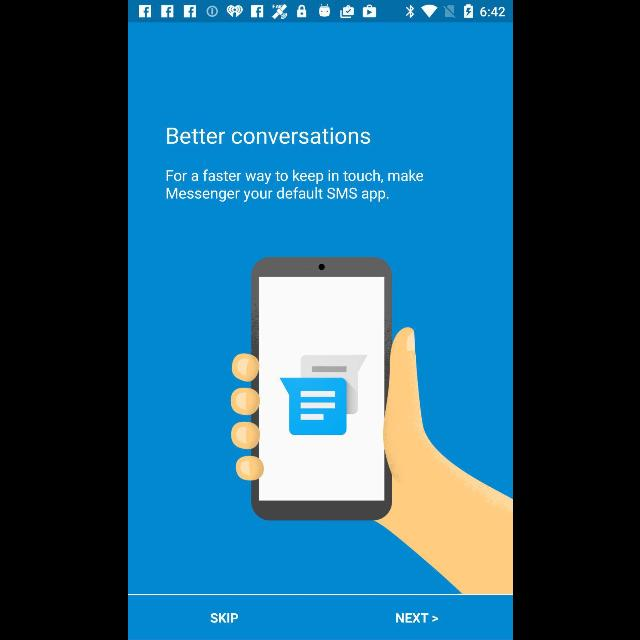image: (230, 256, 512, 594)
text: (165, 169, 423, 203), (166, 127, 370, 145), (396, 612, 438, 624), (208, 612, 238, 624)
uppertaskbar: (128, 1, 512, 23)
